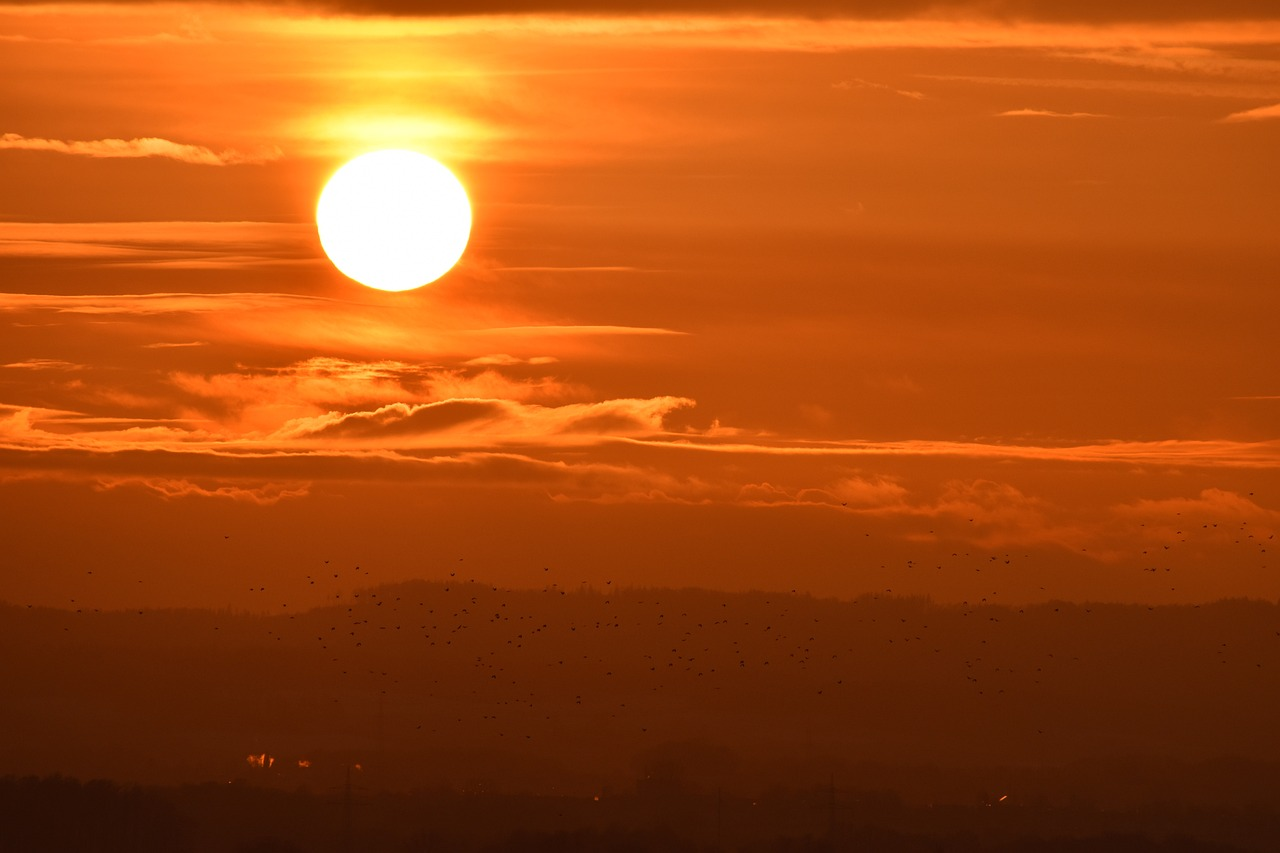sun: (301, 147, 479, 297)
